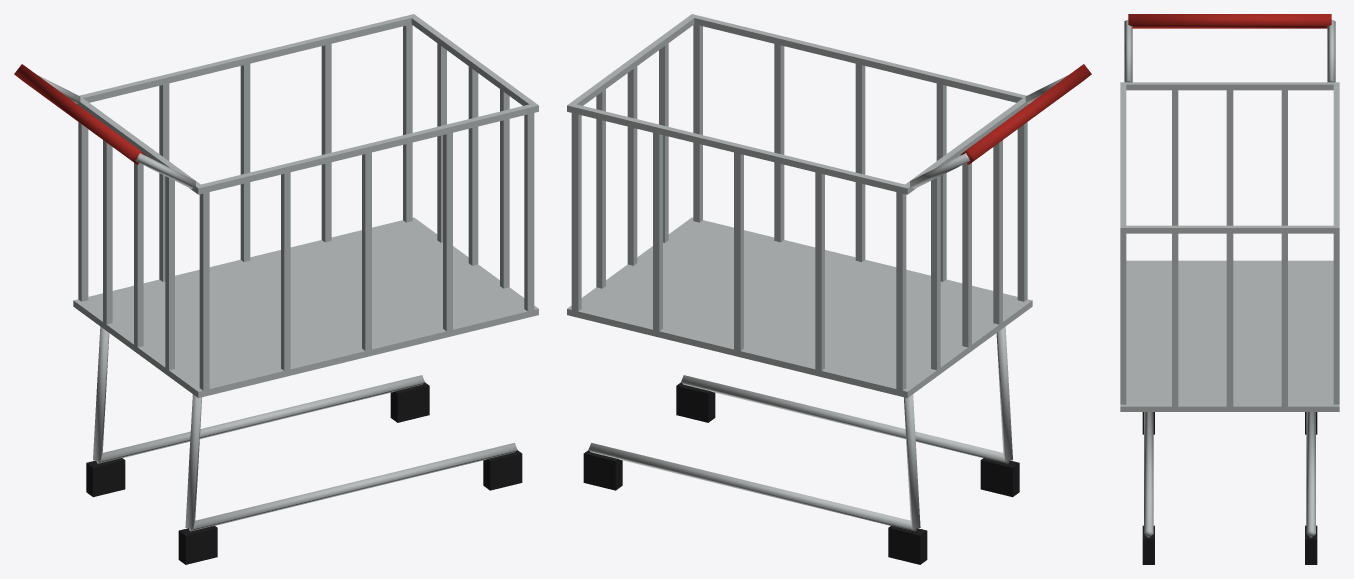
File: shopping_trolley.glb
3 views of the same model, side by side, from view 1: azimuth 30°, elevation 25°; view 2: azimuth 150°, elevation 25°; view 3: azimuth 270°, elevation 25° (orthographic). The views are drawn at different scales.
Visible parts, largest first — view 1: shopping_trolley; view 2: shopping_trolley; view 3: shopping_trolley.
Boxes of the visible parts, <box> form: shopping_trolley: <box>14,14,538,564</box>; shopping_trolley: <box>567,14,1091,564</box>; shopping_trolley: <box>1120,14,1339,564</box>.
Bounding box in the file's own units: 1.01 × 1.04 × 0.54.
1 material, 1 textured.
